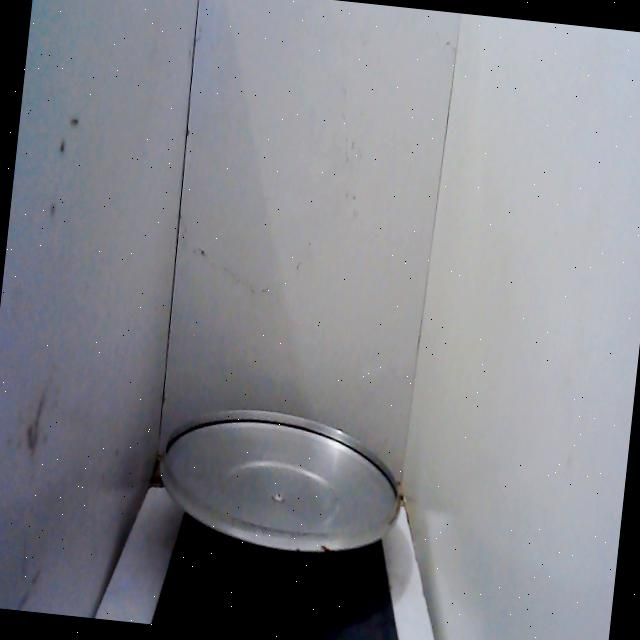metal: (146, 389, 416, 577)
